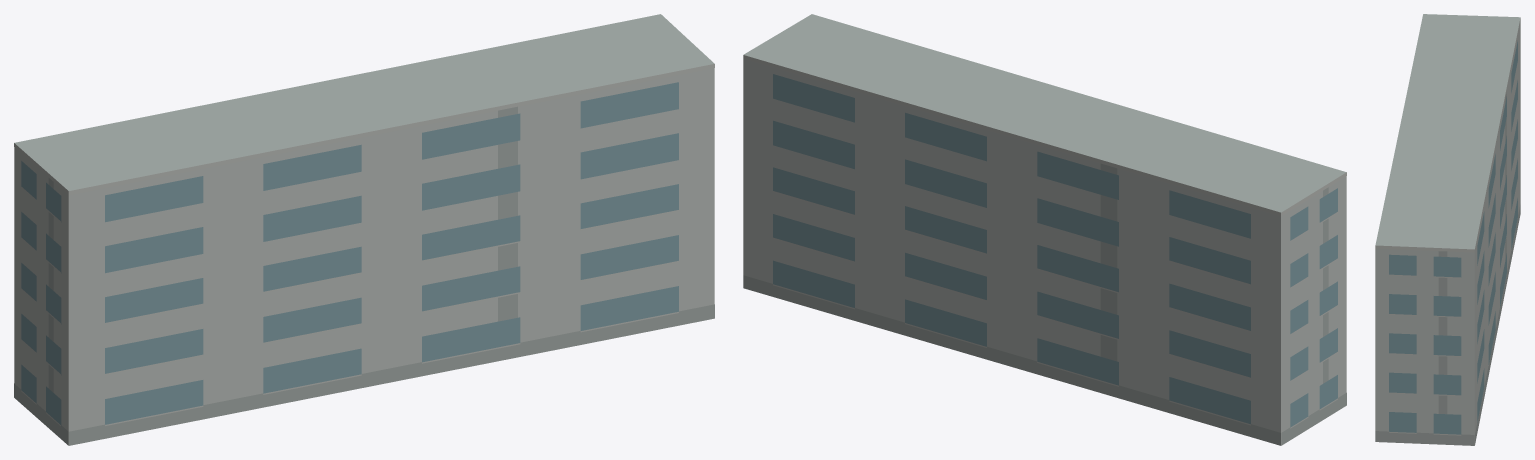
Rendered from survey-upis-32782542.glb.
3 views of the same model, side by side, from view 1: azimuth 30°, elevation 25°; view 2: azimuth 150°, elevation 25°; view 3: azimuth 270°, elevation 25° (orthographic). The views are drawn at different scales.
Parts seen in each view (by area): view 1: survey-upis-32782542.tmp; view 2: survey-upis-32782542.tmp; view 3: survey-upis-32782542.tmp.
Boxes of the visible parts, box(x1,y1,x2,y2) form: survey-upis-32782542.tmp: box(14, 14, 714, 445); survey-upis-32782542.tmp: box(743, 14, 1346, 445); survey-upis-32782542.tmp: box(1375, 14, 1520, 445).
Bounding box in the file's own units: 39.2 × 15.25 × 10.22.
